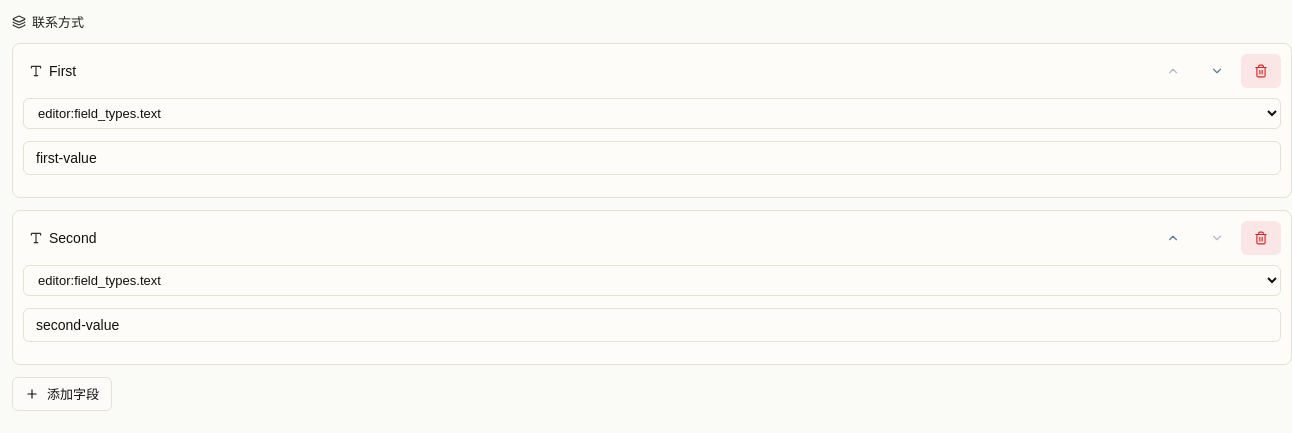
Test: DynamicGroupEditor › moves and renames a field while preserving its value
Click the 1st button named "common:move_down". click: (1217, 71)
box: [1197, 54, 1237, 88]
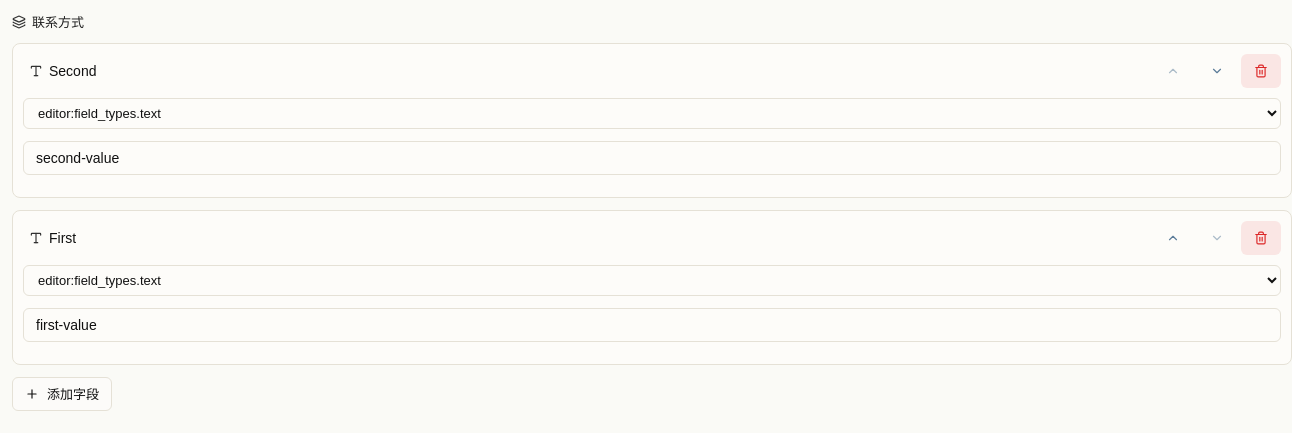
Click the button "First". click: (36, 238)
box: [23, 226, 1145, 250]
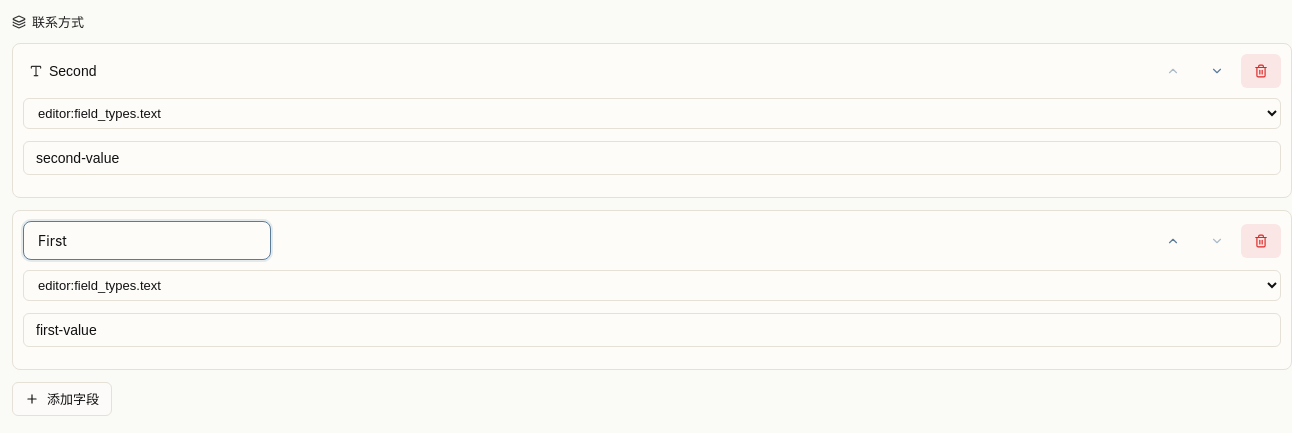
Replace the text in the 2nd field showing "First" with "Renamed". click: (147, 240)
box: [23, 221, 271, 260]
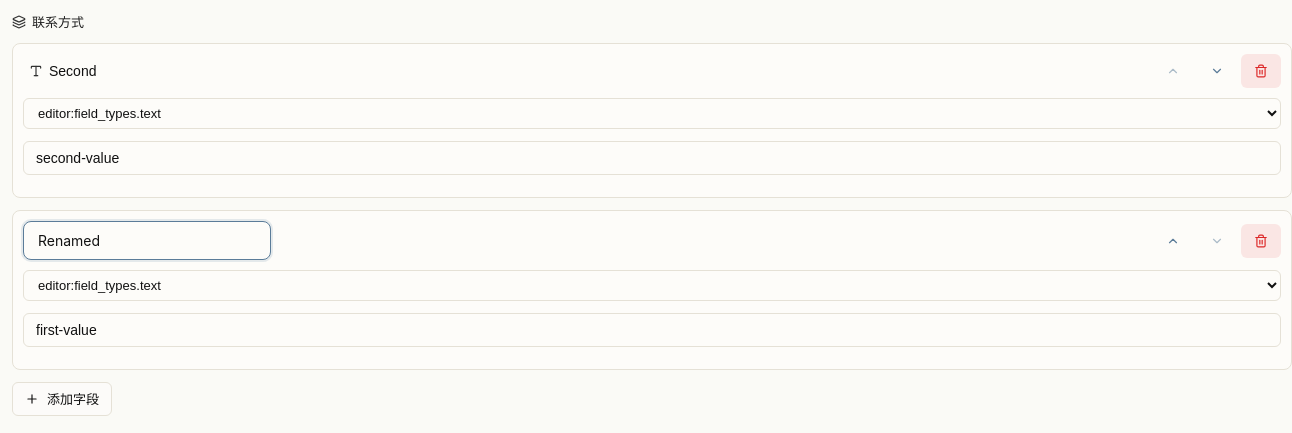
Press Enter in the 2nd field showing "First", box [23, 221, 271, 260]
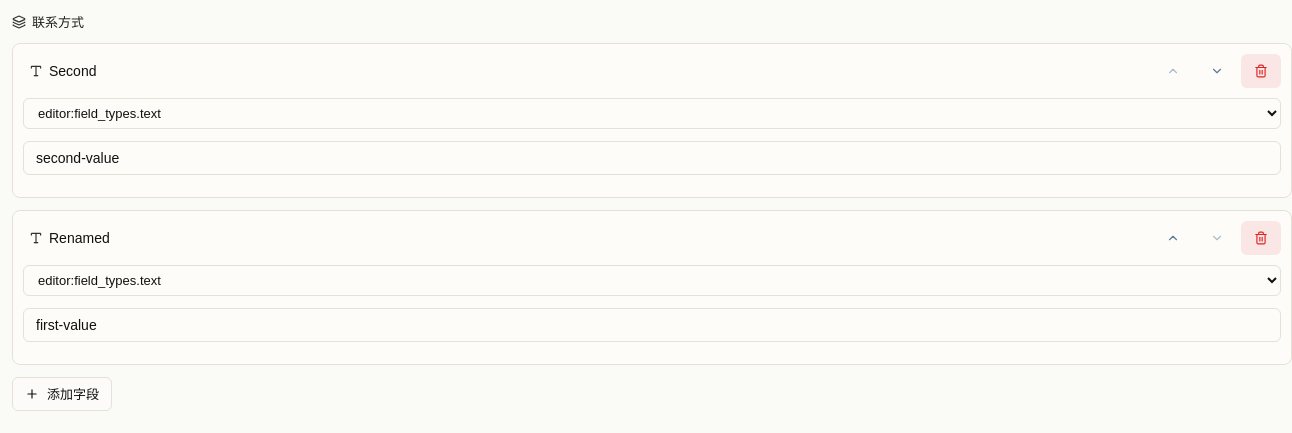
Expected: the 2nd field showing "first-value" is shown, [23, 308, 1281, 342]
Now the button "Renamed" is shown, box [23, 226, 1145, 250]
